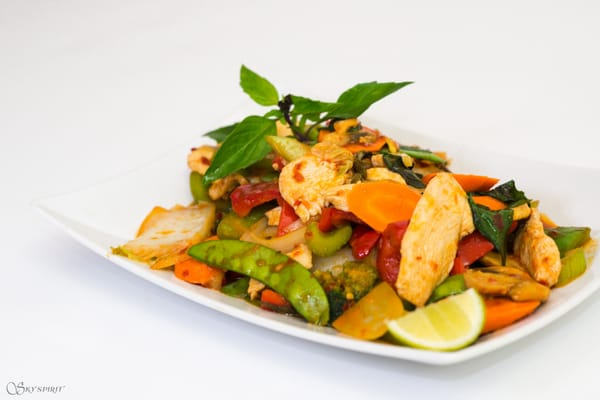pizza: (347, 180, 423, 232), (173, 257, 223, 288), (451, 172, 499, 193), (471, 194, 506, 211)
